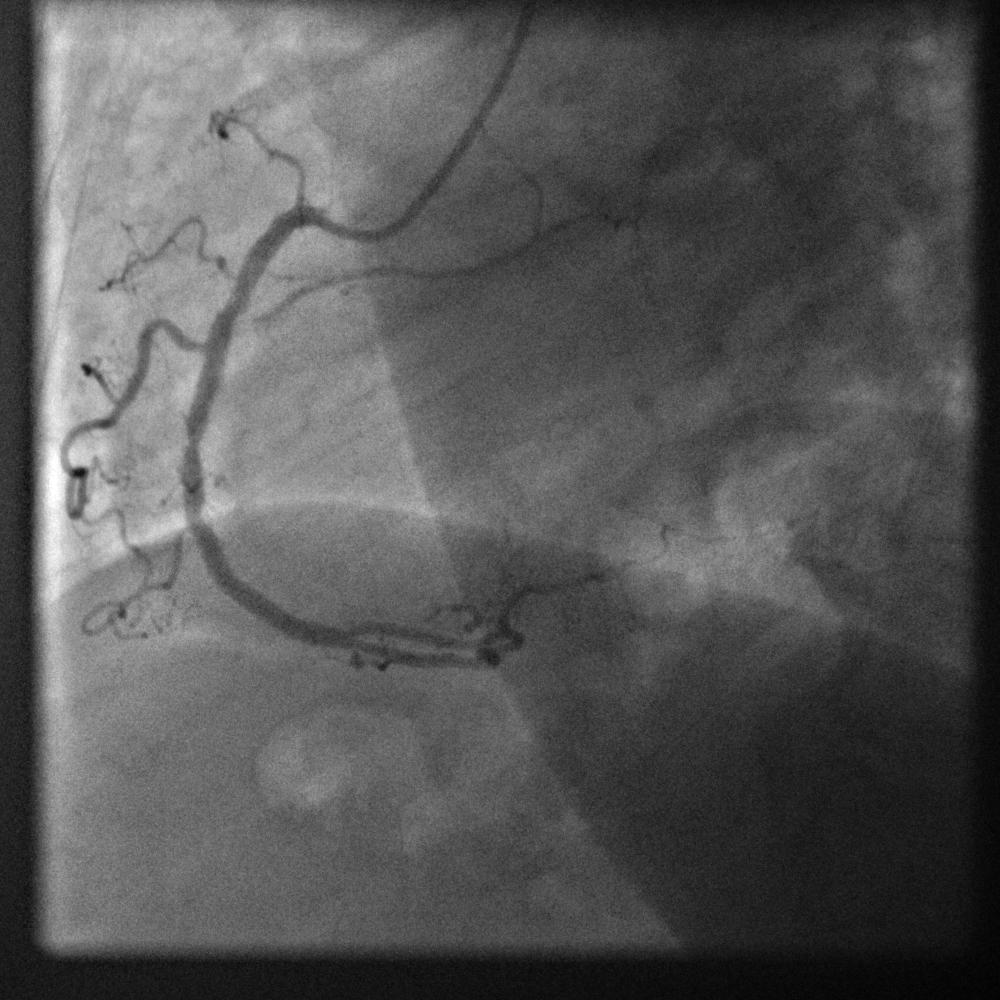Stenosis: (212, 259, 257, 331)
